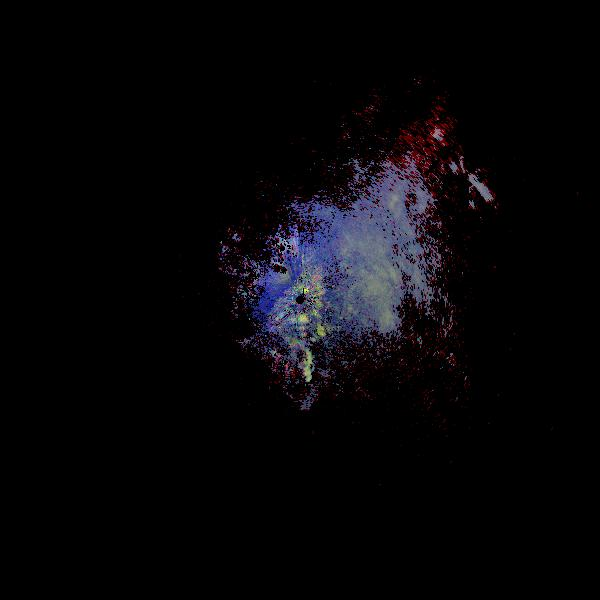roost: (279, 347, 321, 389)
